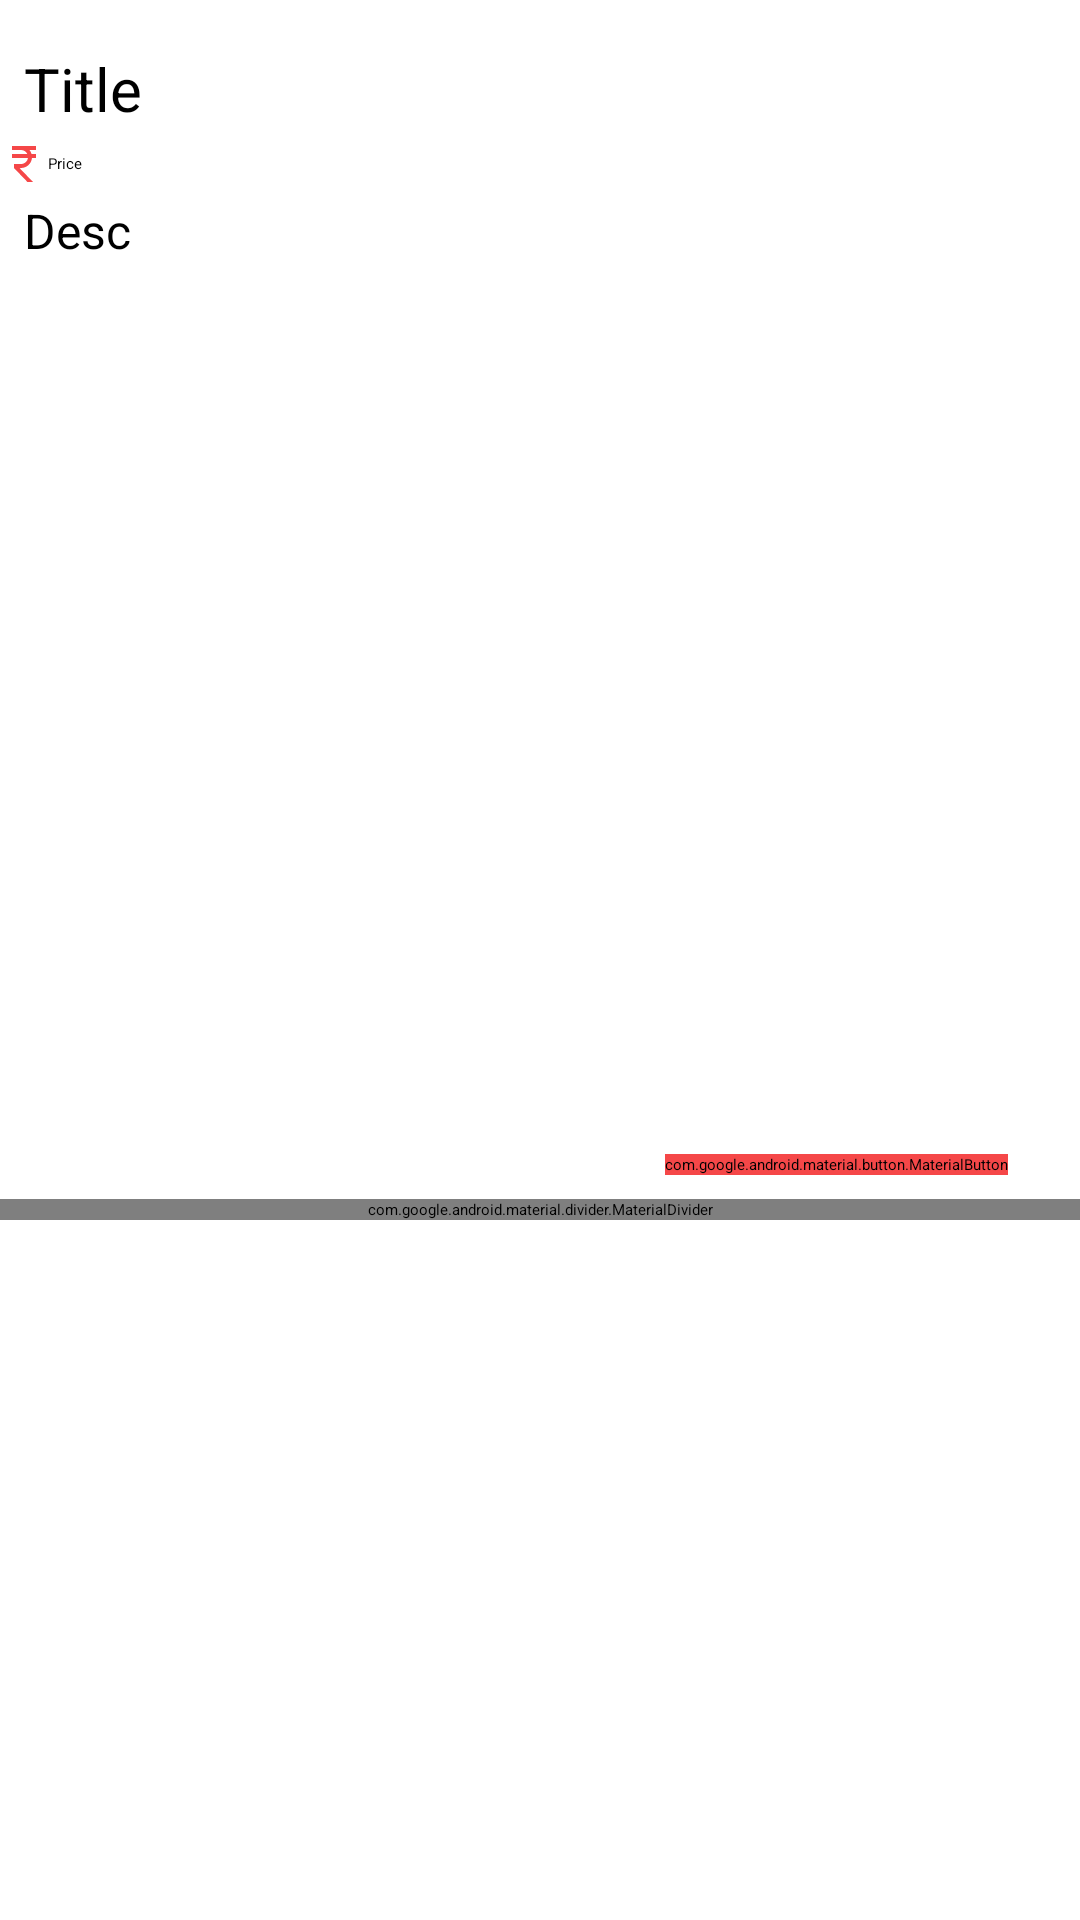

Icons on this 1080×1920 Android screen, each with the point to tap as (x,y):
rupee: (24,164)
